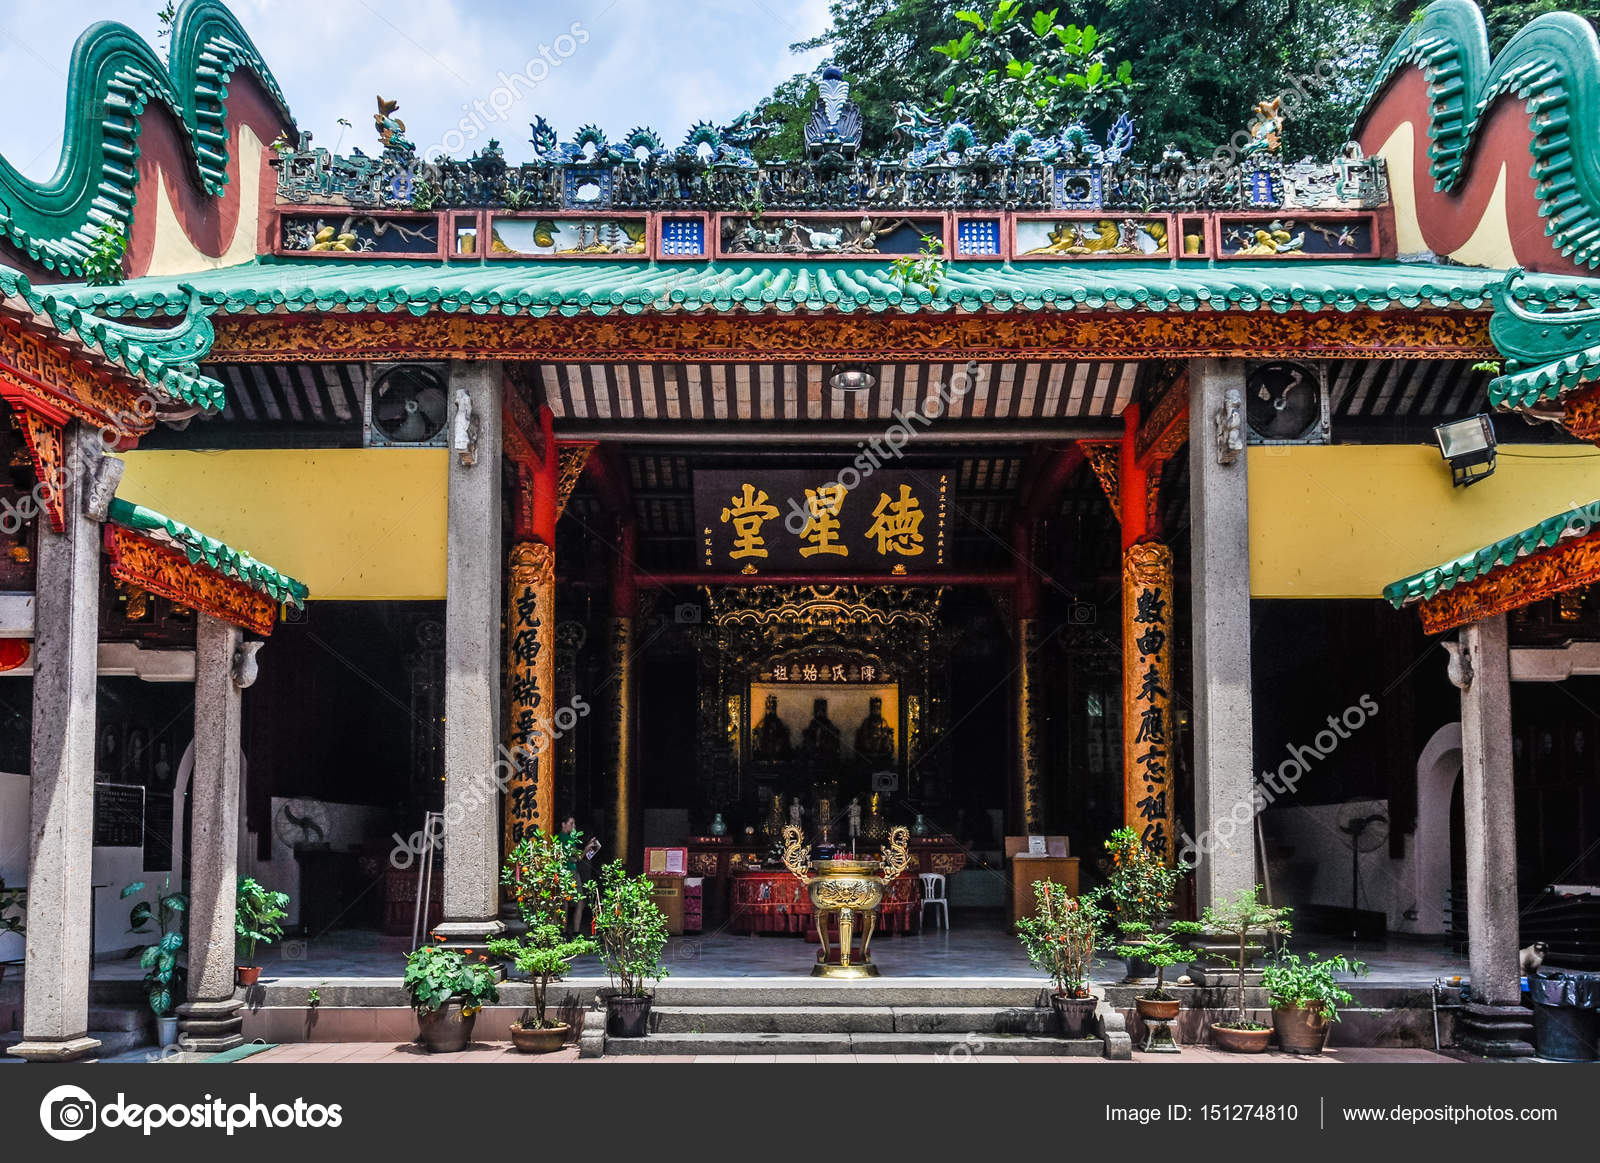Buddhist Temple: (43, 34, 1576, 958)
